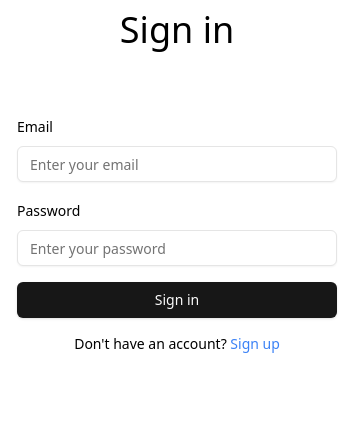
Scenario: Login page › Validation › should show error message when credentials are invalid
Type "hello" into the field named "email" at (177, 164), box x1=17 y1=146 x2=337 y2=182
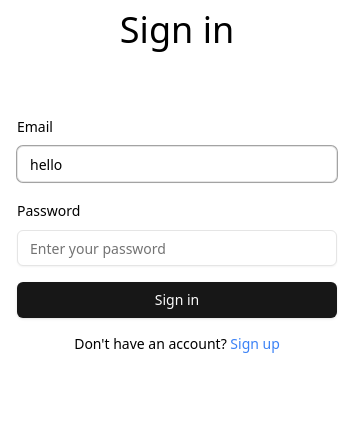
Type "world" into the field named "password" at (177, 248), box x1=17 y1=230 x2=337 y2=266
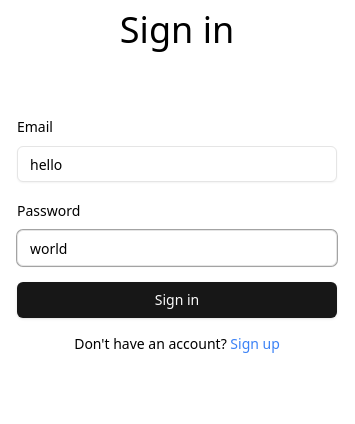
Click the submit button at (177, 300), box x1=17 y1=282 x2=337 y2=318
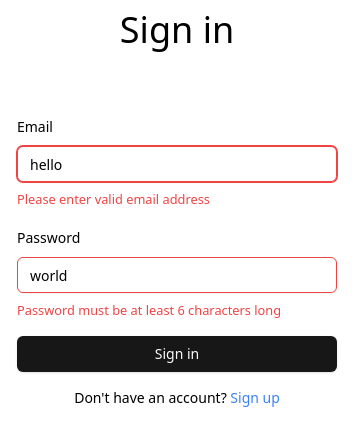
Check: the text "Please enter valid email address" is shown, box x1=17 y1=190 x2=210 y2=208
Check: the text "Password must be at least 6 characters long" is shown, box x1=17 y1=301 x2=281 y2=319
